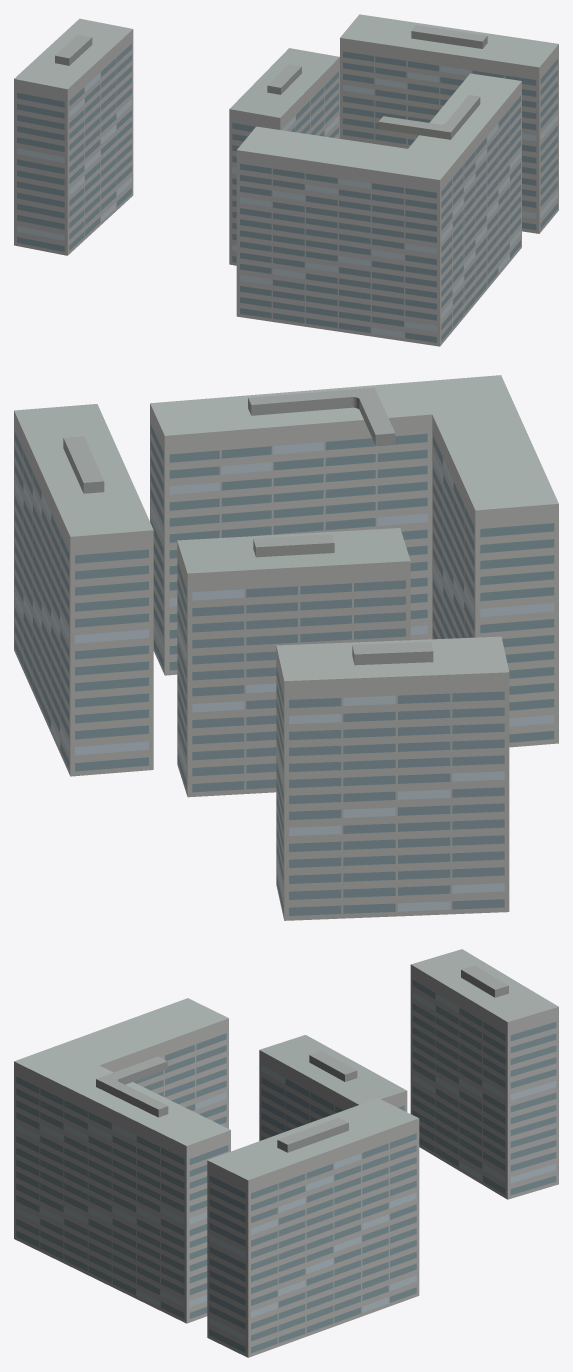
Rendered from apt-a15283707.glb.
The picture shows the model from 3 angles, top to bottom: view 1: azimuth 30°, elevation 25°; view 2: azimuth 150°, elevation 25°; view 3: azimuth 270°, elevation 25°; orthographic projection. The views are drawn at different scales.
Parts seen in each view (by area): view 1: apt-a15283707; view 2: apt-a15283707; view 3: apt-a15283707.
Boxes of the visible parts, x1=… form: apt-a15283707: x1=14, y1=14, x2=558, y2=346; apt-a15283707: x1=14, y1=375, x2=558, y2=920; apt-a15283707: x1=14, y1=949, x2=558, y2=1357.
Bounding box in the file's own units: 128 × 47.81 × 127.
